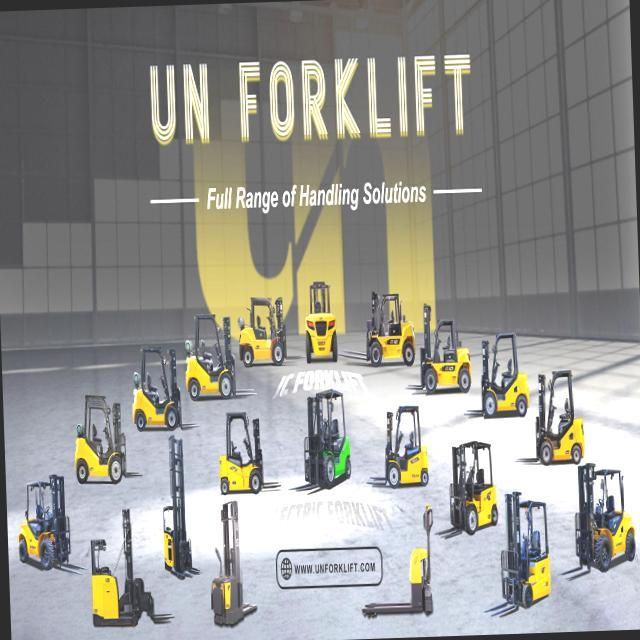forklift: (565, 462, 632, 580), (502, 484, 554, 614), (15, 467, 74, 580), (446, 424, 500, 542), (72, 384, 128, 491), (416, 297, 472, 403), (528, 368, 586, 466), (181, 308, 238, 406), (302, 385, 352, 492), (212, 409, 269, 502), (474, 325, 526, 421), (359, 284, 416, 370), (128, 342, 182, 430), (236, 287, 289, 369), (298, 268, 339, 369), (380, 400, 422, 494)
